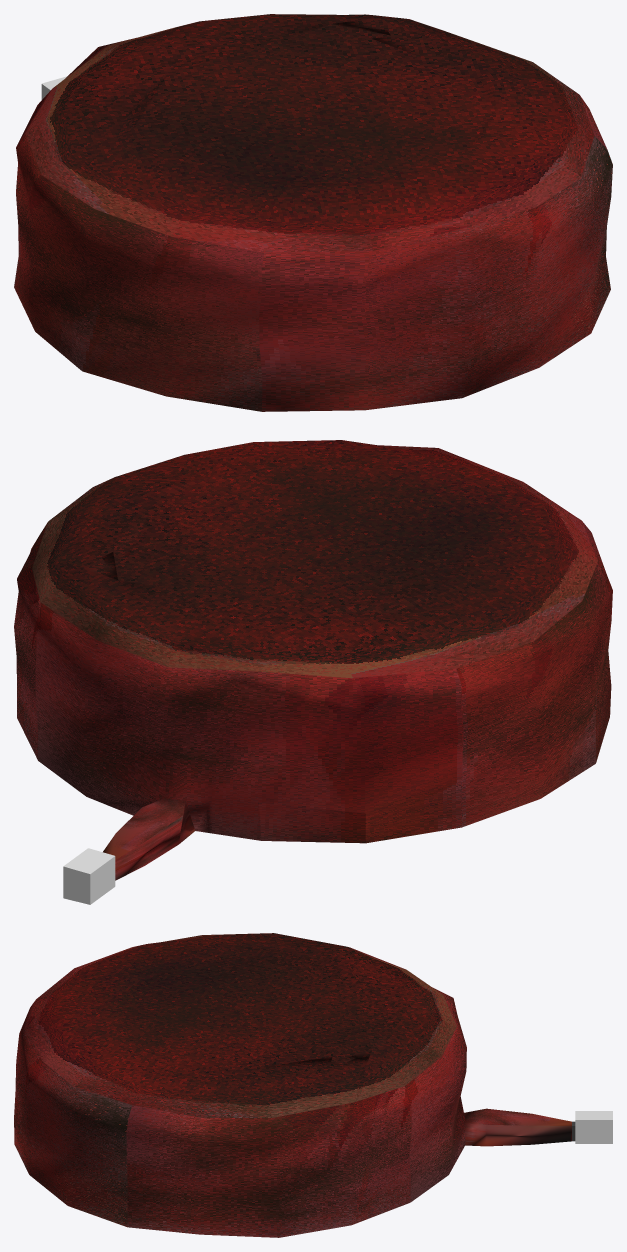
Rendered from map2.glb.
The picture shows the model from 3 angles, top to bottom: view 1: azimuth 30°, elevation 25°; view 2: azimuth 150°, elevation 25°; view 3: azimuth 270°, elevation 25°; orthographic projection. The views are drawn at different scales.
Parts seen in each view (by area): view 1: Cylinder; view 2: Cylinder; view 3: Cylinder.
Part boxes in pixels (x1,y1,x2,y2): Cylinder: (14, 14, 612, 411); Cylinder: (14, 440, 612, 904); Cylinder: (14, 933, 612, 1237).
Size of what is drawn, in the model's own units: 880 by 296 by 1178.
Materials: 6 (2 with a texture image).
